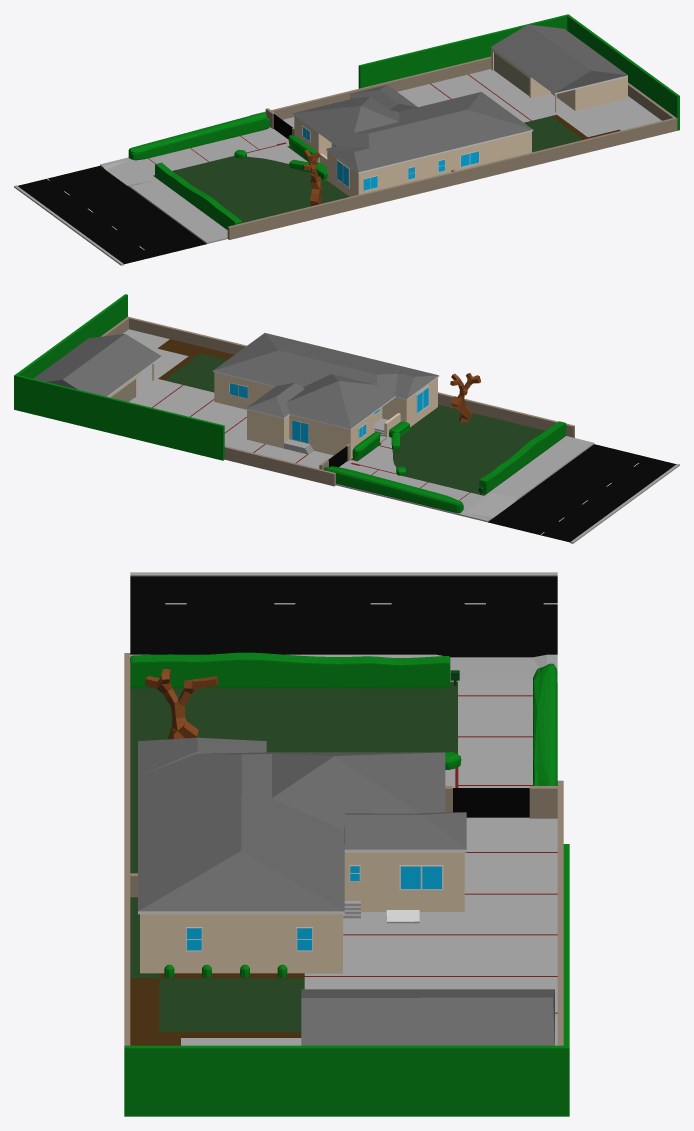
Rendered from Home.fbx.
3 views of the same model, one above another, from view 1: azimuth 30°, elevation 25°; view 2: azimuth 150°, elevation 25°; view 3: azimuth 270°, elevation 25° (orthographic). The views are drawn at different scales.
Visible parts, largest first — view 1: Curb, Road, Cube.054, neighborWall, Grass, Cube.056, neighborWall.004, Cube.011, Cube.052, LBushWall, neighborWall.002, neightBushWall.001 (+13 smaller); view 2: Curb, Road, Grass, neighborWall.004, Cube.054, Cube.056, Cube.052, neighborWall, LBushWall, RBushWall.001, neightBushWall.001, neighborWall.002 (+16 smaller); view 3: Curb, Road, Cube.054, neightBushWall, neightBushWall.001, Grass, Cube.056, Cube.008, Cube.052, RBushWall.001, Grass.001, Cube.006 (+14 smaller).
Part boxes in pixels (x1=…): Curb: x1=100, y1=69, x2=661, y2=243; Road: x1=18, y1=166, x2=206, y2=264; Cube.054: x1=328, y1=92, x2=532, y2=163; neighborWall: x1=227, y1=118, x2=674, y2=239; Grass: x1=153, y1=156, x2=349, y2=229; Cube.056: x1=491, y1=24, x2=627, y2=92; neighborWall.004: x1=358, y1=14, x2=569, y2=88; Cube.011: x1=357, y1=131, x2=531, y2=194; Cube.052: x1=293, y1=96, x2=399, y2=146; LBushWall: x1=128, y1=112, x2=269, y2=160; neighborWall.002: x1=250, y1=56, x2=491, y2=119; neightBushWall.001: x1=567, y1=15, x2=679, y2=129; Curb: x1=123, y1=329, x2=594, y2=522; Road: x1=488, y1=444, x2=676, y2=542; Grass: x1=392, y1=405, x2=565, y2=495; neighborWall.004: x1=14, y1=374, x2=224, y2=460; Cube.054: x1=213, y1=333, x2=402, y2=403; Cube.056: x1=33, y1=334, x2=161, y2=396; Cube.052: x1=286, y1=374, x2=395, y2=428; neighborWall: x1=129, y1=317, x2=574, y2=437; LBushWall: x1=324, y1=466, x2=463, y2=513; RBushWall.001: x1=479, y1=421, x2=566, y2=493; neightBushWall.001: x1=16, y1=294, x2=127, y2=378; neighborWall.002: x1=224, y1=446, x2=335, y2=486; Curb: x1=130, y1=654, x2=557, y2=1045; Road: x1=130, y1=576, x2=557, y2=657; Cube.054: x1=138, y1=753, x2=344, y2=911; neightBushWall: x1=124, y1=1067, x2=563, y2=1116; neightBushWall.001: x1=124, y1=1045, x2=563, y2=1116; Grass: x1=130, y1=681, x2=457, y2=804; Cube.056: x1=301, y1=989, x2=554, y2=1045; Cube.008: x1=140, y1=914, x2=342, y2=973; Cube.052: x1=248, y1=752, x2=445, y2=830; RBushWall.001: x1=130, y1=652, x2=450, y2=688; Grass.001: x1=159, y1=978, x2=304, y2=1031; Cube.006: x1=344, y1=852, x2=458, y2=911.
Bounding box in the file's own units: 12968 × 1225 × 4498.
